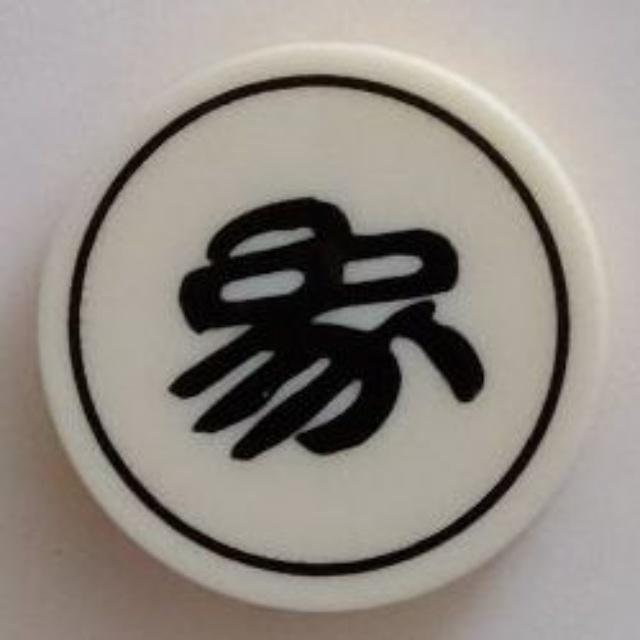black_bo: (28, 34, 620, 621)
